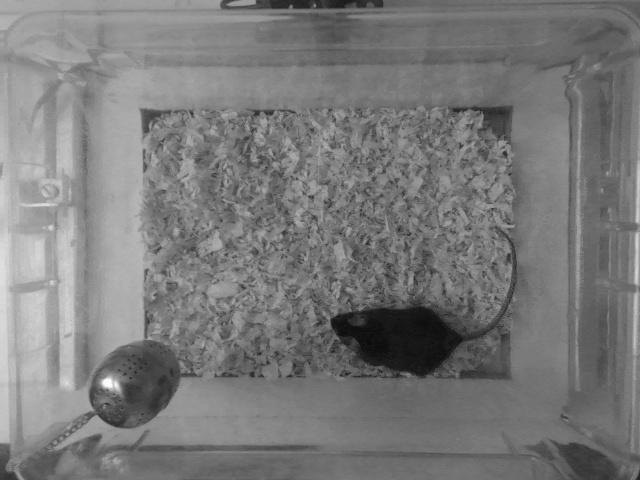mice: (330, 223, 516, 378)
